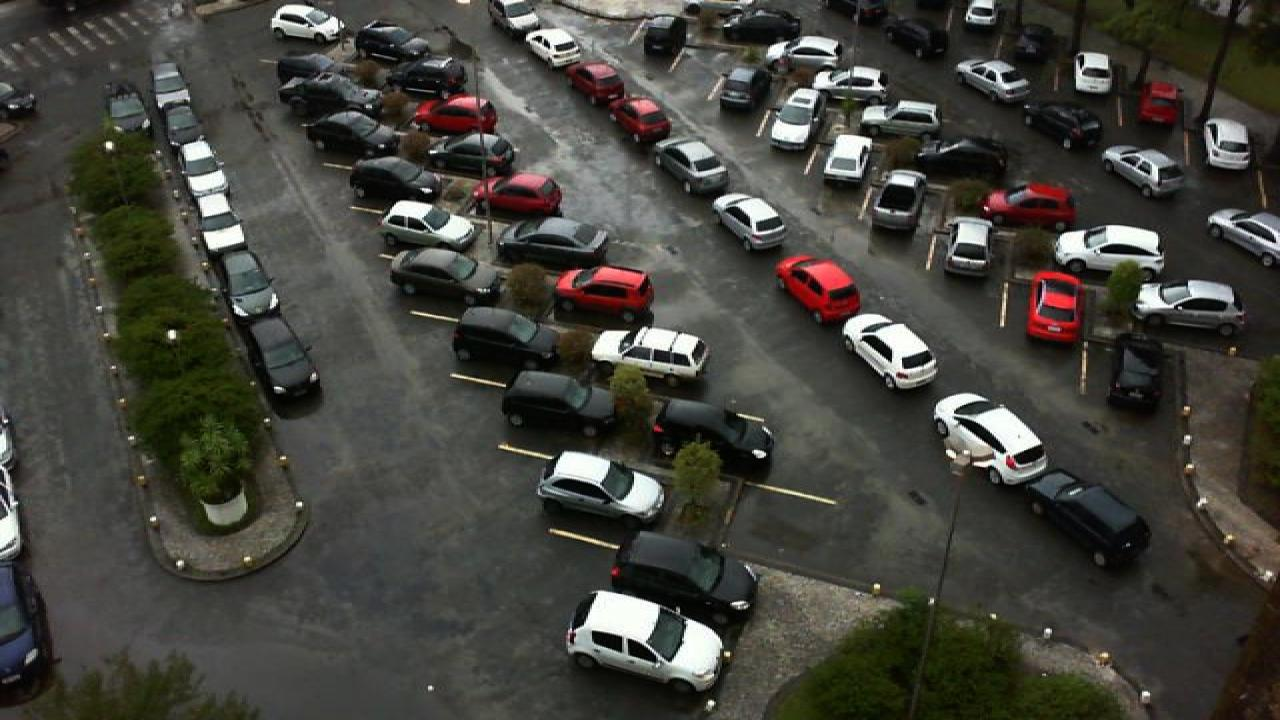Car: (564, 587, 728, 692), (606, 528, 760, 628), (1026, 469, 1154, 569), (930, 390, 1052, 486), (534, 449, 668, 524), (646, 395, 776, 471), (500, 369, 620, 439), (840, 314, 942, 390), (236, 314, 324, 402), (588, 325, 712, 384), (450, 305, 562, 369), (386, 245, 504, 305), (1130, 278, 1248, 337), (772, 253, 866, 326), (494, 215, 610, 271), (1054, 223, 1168, 279), (552, 264, 658, 323), (378, 197, 480, 254), (710, 190, 790, 253), (1100, 143, 1190, 199), (1106, 331, 1166, 413), (978, 182, 1078, 231), (214, 248, 282, 318), (654, 137, 732, 198), (348, 154, 444, 203), (914, 134, 1012, 182), (276, 74, 378, 120), (1022, 99, 1108, 152), (1026, 269, 1088, 342), (1206, 208, 1280, 269), (468, 171, 566, 217), (426, 130, 518, 176), (304, 110, 396, 156), (954, 56, 1034, 106), (408, 92, 500, 135), (942, 216, 1002, 280), (866, 169, 926, 233), (176, 139, 236, 202), (768, 88, 828, 150), (384, 55, 470, 97), (606, 93, 674, 145), (876, 16, 954, 61), (818, 134, 878, 191), (1200, 116, 1260, 171), (354, 21, 432, 63), (860, 98, 944, 137), (766, 34, 846, 74), (194, 197, 250, 254), (268, 3, 346, 43), (718, 6, 804, 42), (562, 60, 626, 105), (814, 64, 892, 100), (714, 65, 770, 115), (520, 27, 584, 70), (158, 98, 212, 146), (638, 14, 690, 60), (1134, 79, 1182, 126), (1070, 50, 1118, 96), (1010, 22, 1060, 64), (484, 0, 542, 35), (150, 60, 194, 104), (958, 0, 1006, 37)
